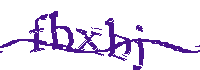b: (105, 17, 132, 61), (49, 11, 73, 52)
f: (28, 14, 48, 53)
j: (133, 25, 145, 70)
x: (75, 25, 102, 55)
